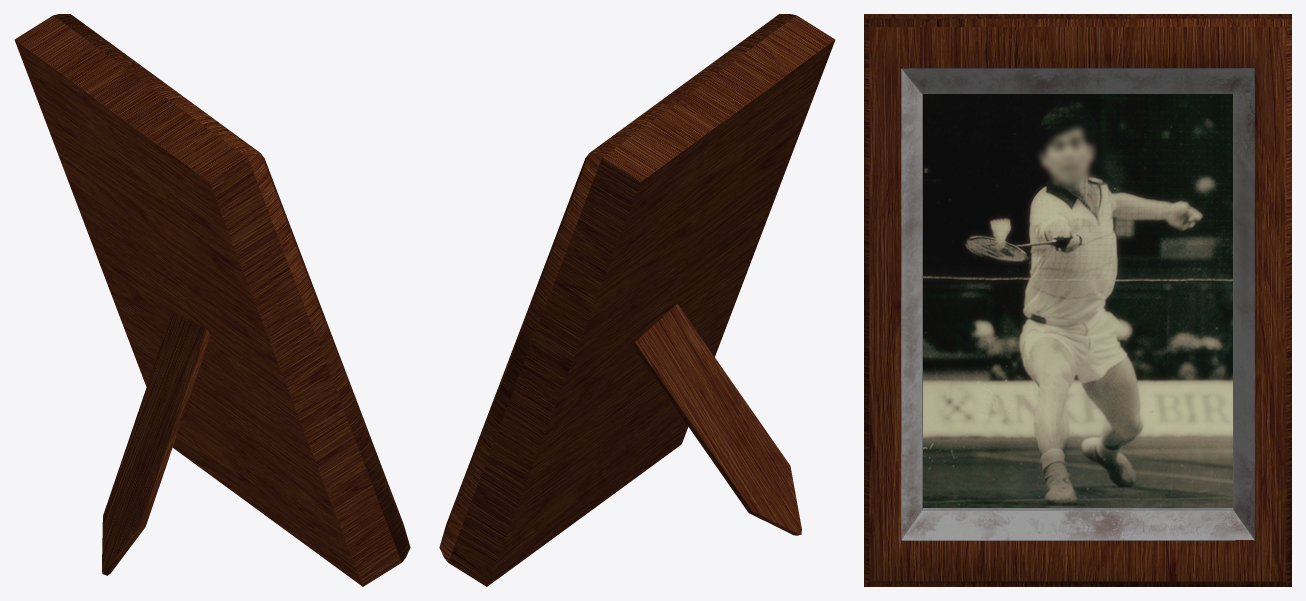
File: frame2_2_young david badminton.FBX
The picture shows the model from 3 angles, left to right: view 1: azimuth 30°, elevation 25°; view 2: azimuth 150°, elevation 25°; view 3: azimuth 270°, elevation 25°; orthographic projection. The views are drawn at different scales.
Visible parts, largest first — view 1: frame006; view 2: frame006; view 3: frame006.
Boxes of the visible parts, x1,y1,x2,y2 form: frame006: [14, 14, 410, 586]; frame006: [439, 14, 835, 586]; frame006: [864, 14, 1291, 586].
Bounding box in the file's own units: 14.64 × 26.61 × 20.53.
1 material, 1 textured.
